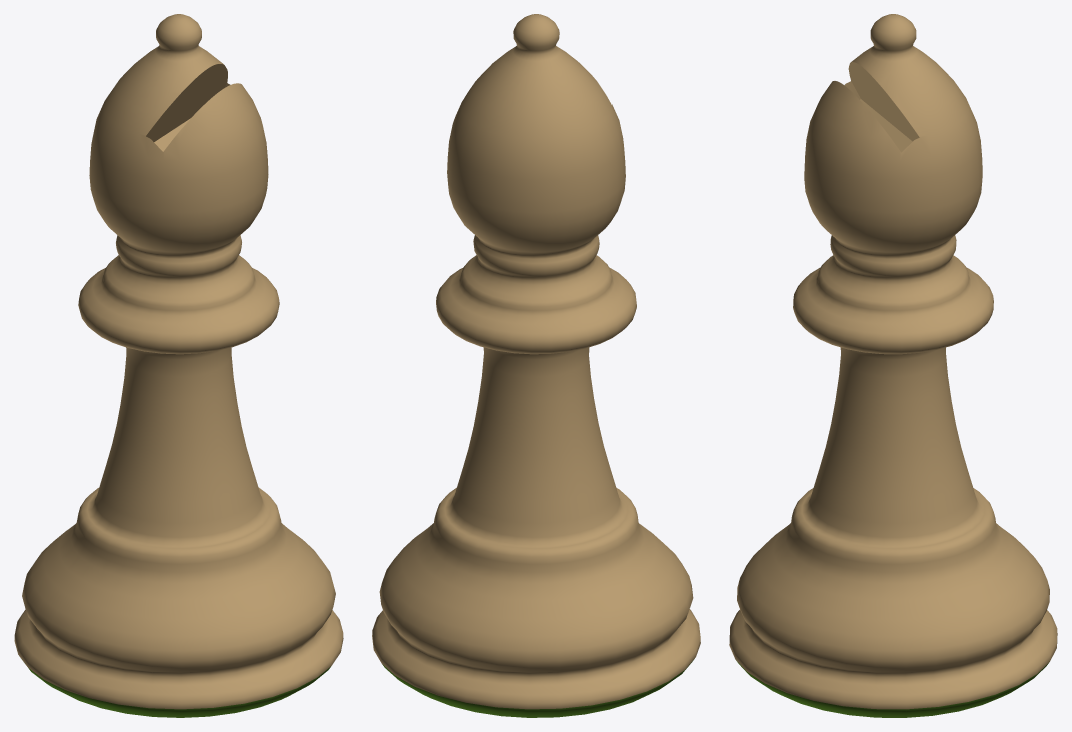
Rendered from whitebishop.glb.
The picture shows the model from 3 angles, left to right: view 1: azimuth 30°, elevation 25°; view 2: azimuth 150°, elevation 25°; view 3: azimuth 270°, elevation 25°; orthographic projection.
Parts seen in each view (by area): view 1: whitebishop; view 2: whitebishop; view 3: whitebishop.
Boxes of the visible parts, x1=… form: whitebishop: x1=14, y1=14, x2=343, y2=717; whitebishop: x1=372, y1=14, x2=700, y2=717; whitebishop: x1=729, y1=14, x2=1057, y2=717.
Size of the model in its own units: 0.5747 by 1.26 by 0.5747.
